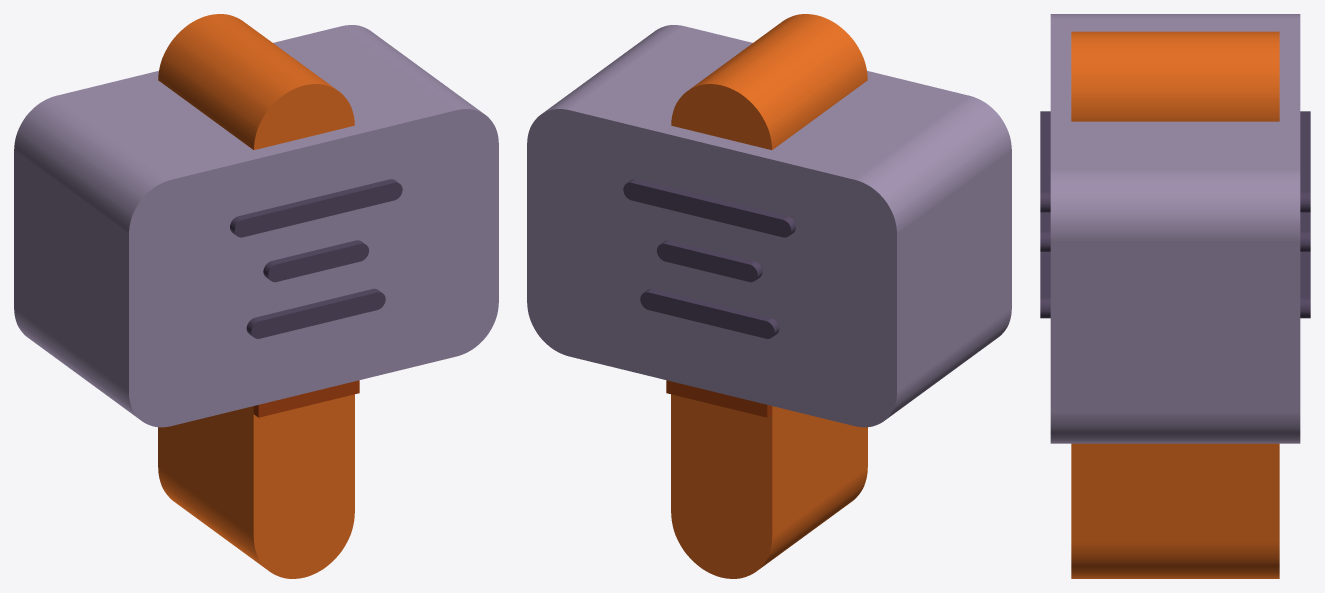
Rendered from U+1FAA7.obj.
3 views of the same model, side by side, from view 1: azimuth 30°, elevation 25°; view 2: azimuth 150°, elevation 25°; view 3: azimuth 270°, elevation 25° (orthographic). The views are drawn at different scales.
Visible parts, largest first — view 1: U+1FAA7_layer02_obj00, U+1FAA7_layer00_obj00, U+1FAA7_layer03_obj00, U+1FAA7_layer01_obj00; view 2: U+1FAA7_layer02_obj00, U+1FAA7_layer00_obj00, U+1FAA7_layer03_obj00, U+1FAA7_layer01_obj00; view 3: U+1FAA7_layer02_obj00, U+1FAA7_layer00_obj00, U+1FAA7_layer03_obj00.
Part boxes in pixels (bbox=[...]): U+1FAA7_layer02_obj00: bbox=[14, 25, 498, 427]; U+1FAA7_layer00_obj00: bbox=[158, 14, 354, 578]; U+1FAA7_layer03_obj00: bbox=[230, 179, 402, 338]; U+1FAA7_layer01_obj00: bbox=[253, 380, 359, 417]; U+1FAA7_layer02_obj00: bbox=[527, 25, 1011, 427]; U+1FAA7_layer00_obj00: bbox=[671, 14, 867, 578]; U+1FAA7_layer03_obj00: bbox=[623, 179, 795, 338]; U+1FAA7_layer01_obj00: bbox=[666, 380, 772, 417]; U+1FAA7_layer02_obj00: bbox=[1050, 14, 1300, 443]; U+1FAA7_layer00_obj00: bbox=[1071, 31, 1279, 578]; U+1FAA7_layer03_obj00: bbox=[1040, 111, 1310, 318].
Size of the model in its own units: 0.4465 by 0.5677 by 0.26.
